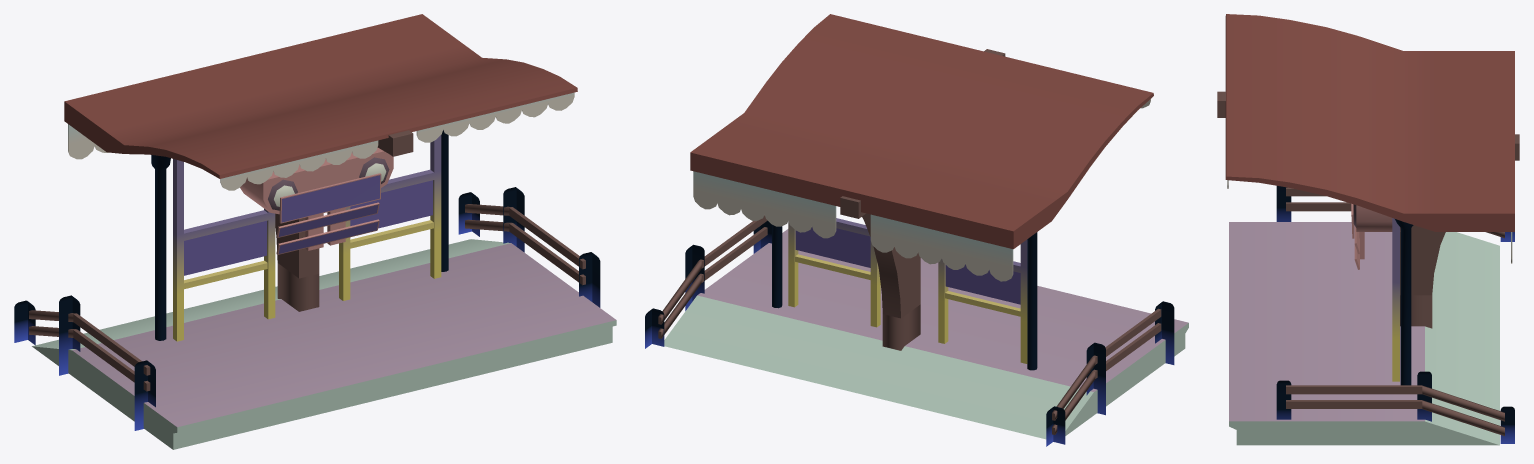
Rendered from trainstop.glb.
3 renders of one model, left to right at view 1: azimuth 30°, elevation 25°; view 2: azimuth 150°, elevation 25°; view 3: azimuth 270°, elevation 25°, orthographic. The views are drawn at different scales.
Visible parts, largest first — view 1: trainstop.col, trainstop.col.001, trainstop.col.002, trainstop.col.003; view 2: trainstop.col, trainstop.col.001, trainstop.col.003; view 3: trainstop.col, trainstop.col.001, trainstop.col.003, trainstop.col.002.
Part boxes in pixels (box(x1,y1,x2,y2)): trainstop.col: box(32, 14, 616, 449); trainstop.col.001: box(14, 187, 600, 430); trainstop.col.002: box(240, 147, 393, 254); trainstop.col.003: box(151, 130, 448, 340); trainstop.col: box(664, 14, 1188, 439); trainstop.col.001: box(645, 215, 1174, 446); trainstop.col.003: box(772, 224, 1037, 370); trainstop.col: box(1217, 14, 1519, 445); trainstop.col.001: box(1276, 186, 1514, 443); trainstop.col.003: box(1395, 219, 1413, 385); trainstop.col.002: box(1351, 203, 1400, 269).
Size of the model in its own units: 13.07 by 7.35 by 8.03.
2 materials, 2 textured.
